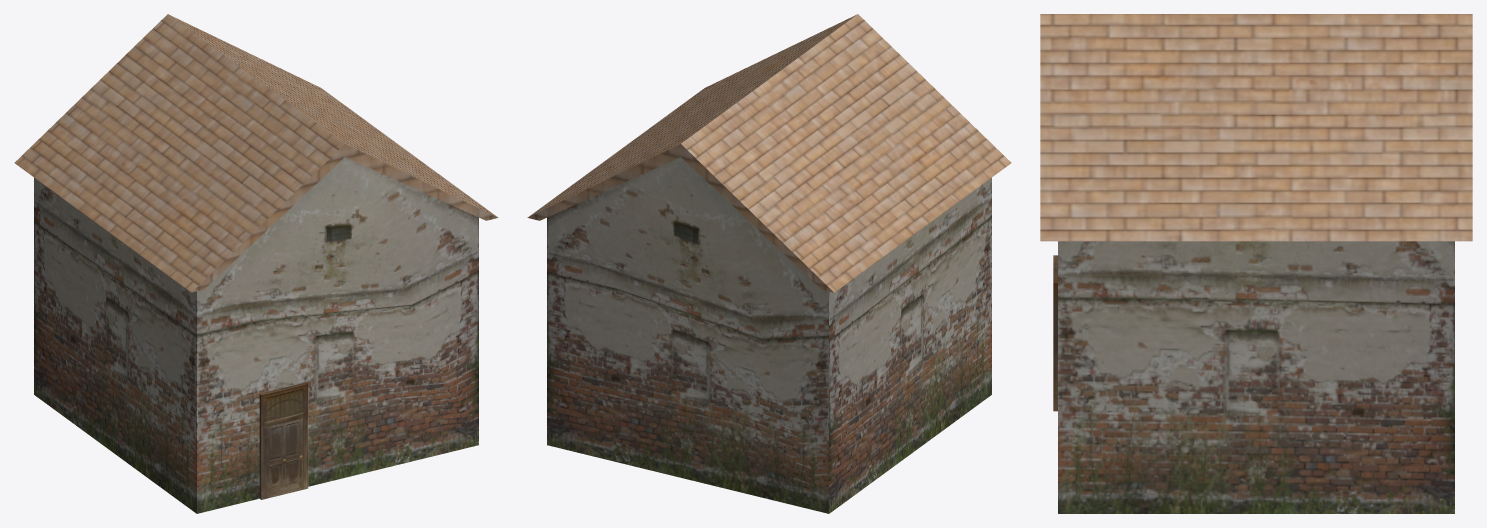
Rendered from bighouse.fbx.
3 views of the same model, side by side, from view 1: azimuth 30°, elevation 25°; view 2: azimuth 150°, elevation 25°; view 3: azimuth 270°, elevation 25° (orthographic). The views are drawn at different scales.
Visible parts, largest first — view 1: house; view 2: house; view 3: house.
Boxes of the visible parts, bbox=[...] form: house: bbox=[14, 14, 498, 513]; house: bbox=[527, 14, 1011, 513]; house: bbox=[1040, 14, 1472, 513].
Size of the model in its own units: 980 by 1040 by 980.
3 materials, 3 textured.
